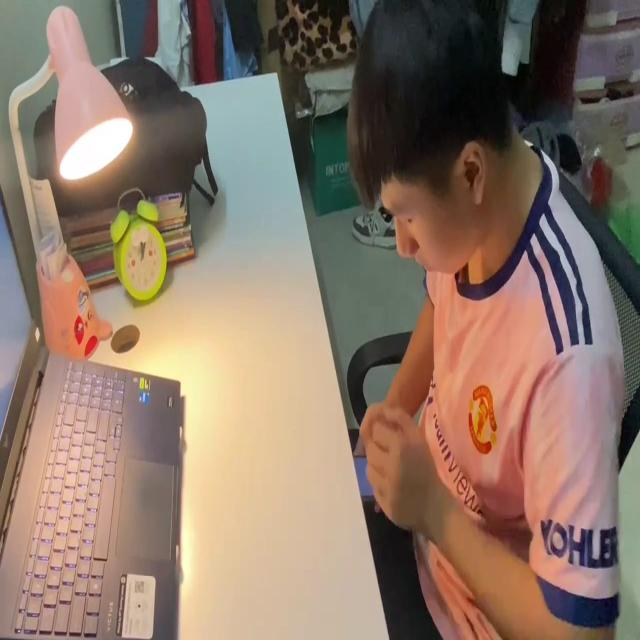laptop: (0, 184, 184, 640)
phone: (349, 447, 383, 505)
student: (345, 0, 640, 640)
